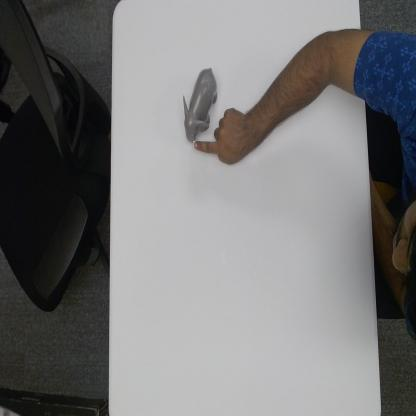Arm: (250, 28, 366, 151)
Elephant: (182, 66, 218, 144)
Hand: (192, 106, 249, 168)
